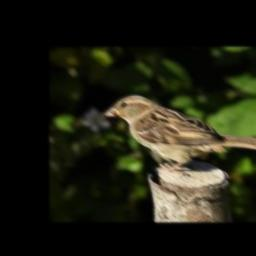Sparrow: (104, 95, 256, 170)
